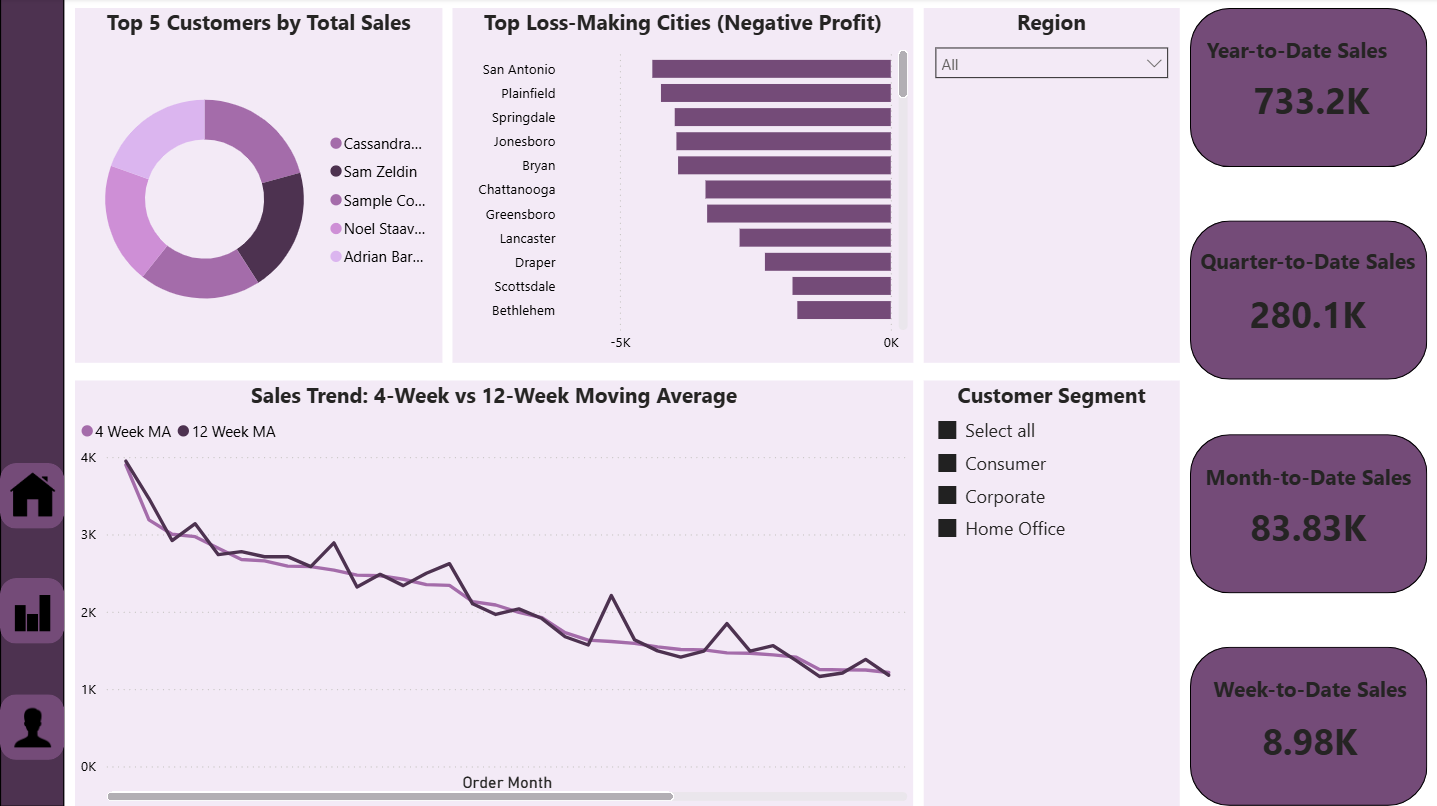

This screenshot's page, from the dashboard's own definition file:
{"tool":"powerbi","page":{"name":"Page Customer & Time Analysis","canvas":[1280,720],"ordinal":1},"visuals":[{"type":"slicer","title":"Region","fields":{"Values":["Orders$FilterDatabase.Region"]},"box":[822.3,8.7,227.6,316],"z":0},{"type":"shape","box":[0,516.9,57.2,58.5],"z":0,"group":"g1"},{"type":"slicer","title":"Customer Segment","fields":{"Values":["Orders$FilterDatabase.Segment"]},"box":[822.3,340.8,227.6,379.4],"z":1000},{"type":"image","box":[7.5,529.3,42.3,34.8],"z":1000,"group":"g1"},{"type":"donutChart","title":"Top 5 Customers by Total Sales","fields":{"Category":["Orders$FilterDatabase.Customer Name"],"Y":["Orders.Total Sales"]},"box":[67.2,8.7,327.2,316],"z":2000},{"type":"clusteredBarChart","title":"Top Loss-Making Cities (Negative Profit)","fields":{"Category":["Orders$FilterDatabase.City"],"Y":["Orders.Total Profit"]},"box":[403,8.7,410.5,316],"z":3000},{"type":"lineChart","title":"Sales Trend: 4-Week vs 12-Week Moving Average","fields":{"Y":["Orders.4 Week MA","Orders.12 Week MA"],"Category":["Orders.Order Month"]},"box":[67.2,340.8,746.4,379.4],"z":4000},{"type":"shape","box":[1059.9,8.7,211.5,141.8],"z":5000},{"type":"shape","box":[1059.9,198.6,211.5,141.8],"z":6000},{"type":"shape","box":[1059.9,388.5,211.5,141.8],"z":7000},{"type":"shape","box":[1059.9,578.2,211.5,141.8],"z":8000},{"type":"card","title":"Year-to-Date Sales","fields":{"Values":["Orders.Sales YTD"]},"box":[1069.8,33.6,196.5,92.1],"z":9000},{"type":"card","title":"Quarter-to-Date Sales","fields":{"Values":["Orders.Sales QTD"]},"box":[1061.1,221.4,207.7,97],"z":10000},{"type":"card","title":"Month-to-Date Sales","fields":{"Values":["Orders.Sales MTD"]},"box":[1067.3,414.2,195.3,90.8],"z":11000},{"type":"shape","box":[0,414.2,57.2,58.5],"z":12000,"group":"g3"},{"type":"card","title":"Week-to-Date Sales","fields":{"Values":["Orders.Sales WTD"]},"box":[1066.1,602.1,200.3,94.5],"z":12000},{"type":"shape","box":[0,619.5,57.2,58.5],"z":12000,"group":"g2"},{"type":"shape","box":[0,0,57.2,720.3],"z":13000,"group":"g5"},{"type":"image","box":[6.2,624.5,43.5,51],"z":14003,"group":"g2"},{"type":"group","id":"g1","title":"Group 2","box":[0,516.9,57.2,58.5],"z":16000,"group":"g5"},{"type":"group","id":"g2","title":"Group 3","box":[0,619.5,57.2,58.5],"z":17000,"group":"g5"},{"type":"group","id":"g3","title":"Group 3","box":[0,414.2,57.2,58.5],"z":18000,"group":"g4"},{"type":"image","box":[6.2,421.7,44.8,42.3],"z":19000,"group":"g4"},{"type":"group","id":"g4","title":"Group 1","box":[0,414.2,57.2,58.5],"z":19001,"group":"g5"},{"type":"group","id":"g5","title":"Group 4","box":[0,0,57.2,720.3],"z":19002}]}

Visuals, with their boxes in screenshot pixels (x1, y1, x2, y2), scaled from the page's 1280x720 canvas onto the 1437x806 screenshot:
"Region" slicer: bbox=(923, 10, 1179, 363)
shape: bbox=(0, 579, 64, 644)
"Customer Segment" slicer: bbox=(923, 382, 1179, 805)
image: bbox=(8, 593, 56, 631)
"Top 5 Customers by Total Sales" donutChart: bbox=(75, 10, 443, 363)
"Top Loss-Making Cities (Negative Profit)" clusteredBarChart: bbox=(452, 10, 913, 363)
"Sales Trend: 4-Week vs 12-Week Moving Average" lineChart: bbox=(75, 382, 913, 805)
shape: bbox=(1190, 10, 1427, 168)
shape: bbox=(1190, 222, 1427, 381)
shape: bbox=(1190, 435, 1427, 594)
shape: bbox=(1190, 647, 1427, 805)
"Year-to-Date Sales" card: bbox=(1201, 38, 1422, 141)
"Quarter-to-Date Sales" card: bbox=(1191, 248, 1424, 356)
"Month-to-Date Sales" card: bbox=(1198, 464, 1417, 565)
shape: bbox=(0, 464, 64, 529)
"Week-to-Date Sales" card: bbox=(1197, 674, 1422, 780)
shape: bbox=(0, 693, 64, 759)
shape: bbox=(0, 0, 64, 805)
image: bbox=(7, 699, 56, 756)
"Group 2" group: bbox=(0, 579, 64, 644)
"Group 3" group: bbox=(0, 693, 64, 759)
"Group 3" group: bbox=(0, 464, 64, 529)
image: bbox=(7, 472, 57, 519)
"Group 1" group: bbox=(0, 464, 64, 529)
"Group 4" group: bbox=(0, 0, 64, 805)
